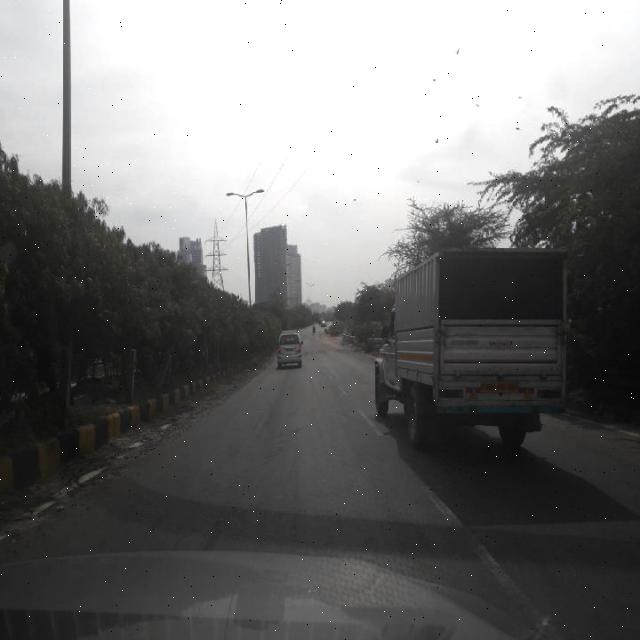D44: (408, 466, 514, 588)
